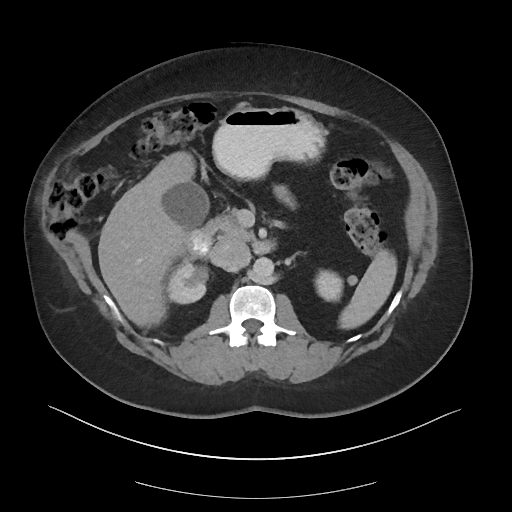Lesion: (177, 266, 210, 288)
